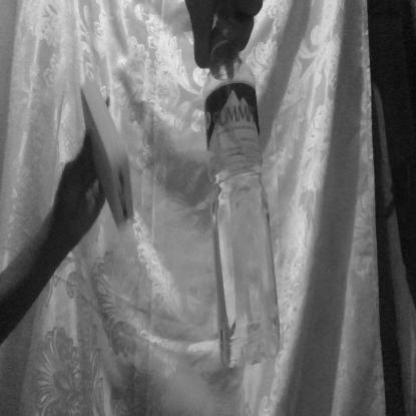Plastic Bottle: (177, 28, 301, 393)
